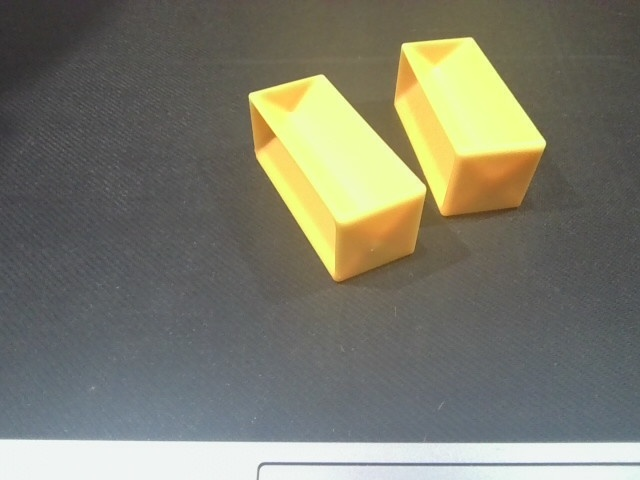YellowSample: (243, 72, 426, 280), (392, 33, 547, 219)
